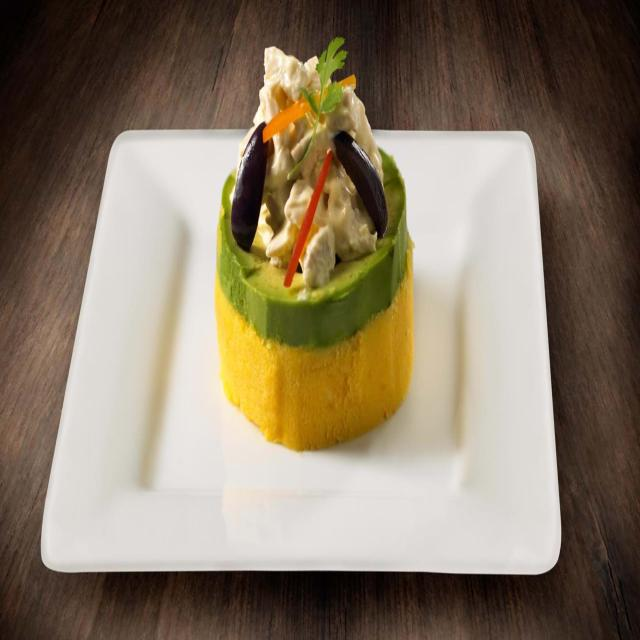aguacate: (203, 179, 420, 333)
